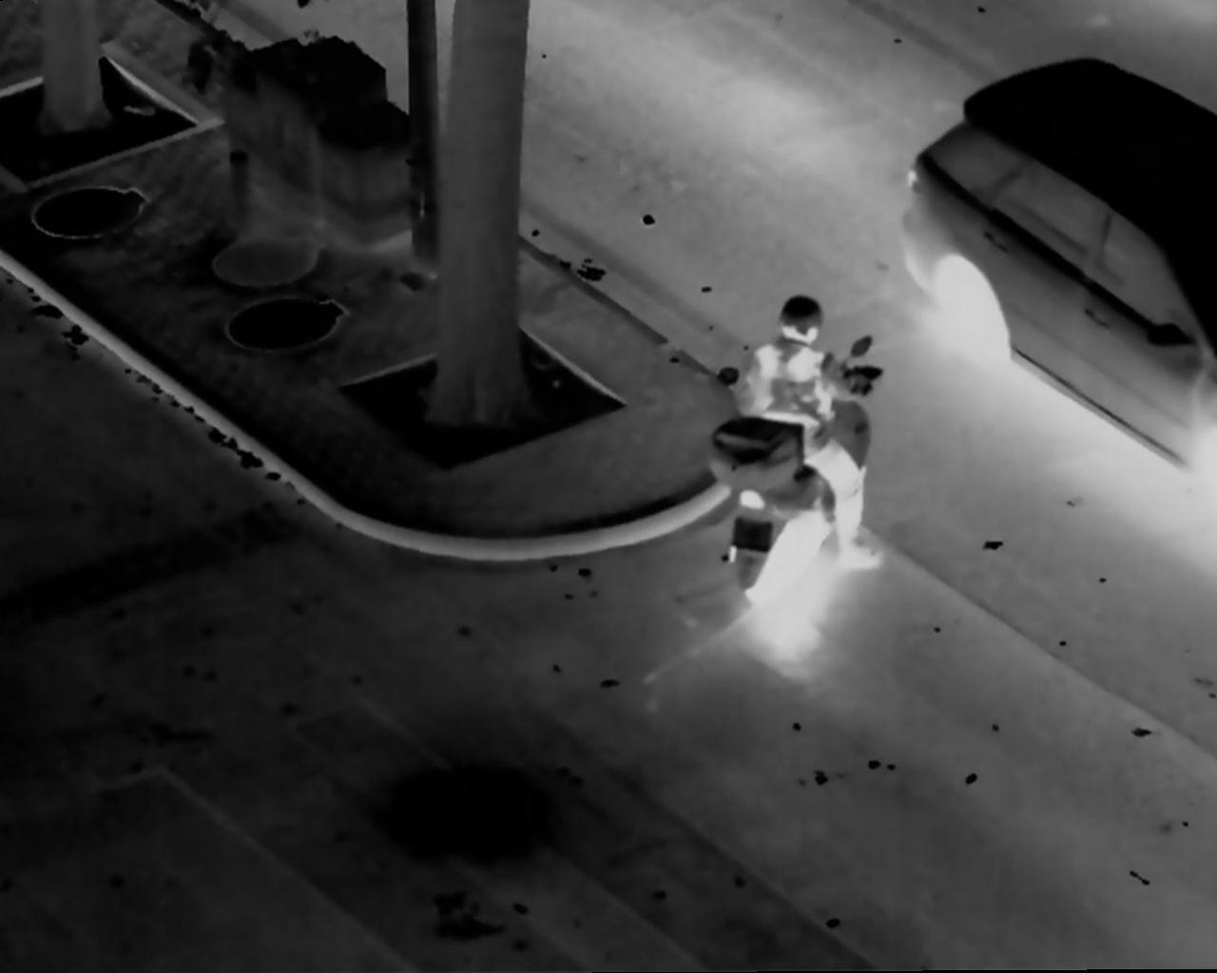person: (728, 291, 879, 563)
